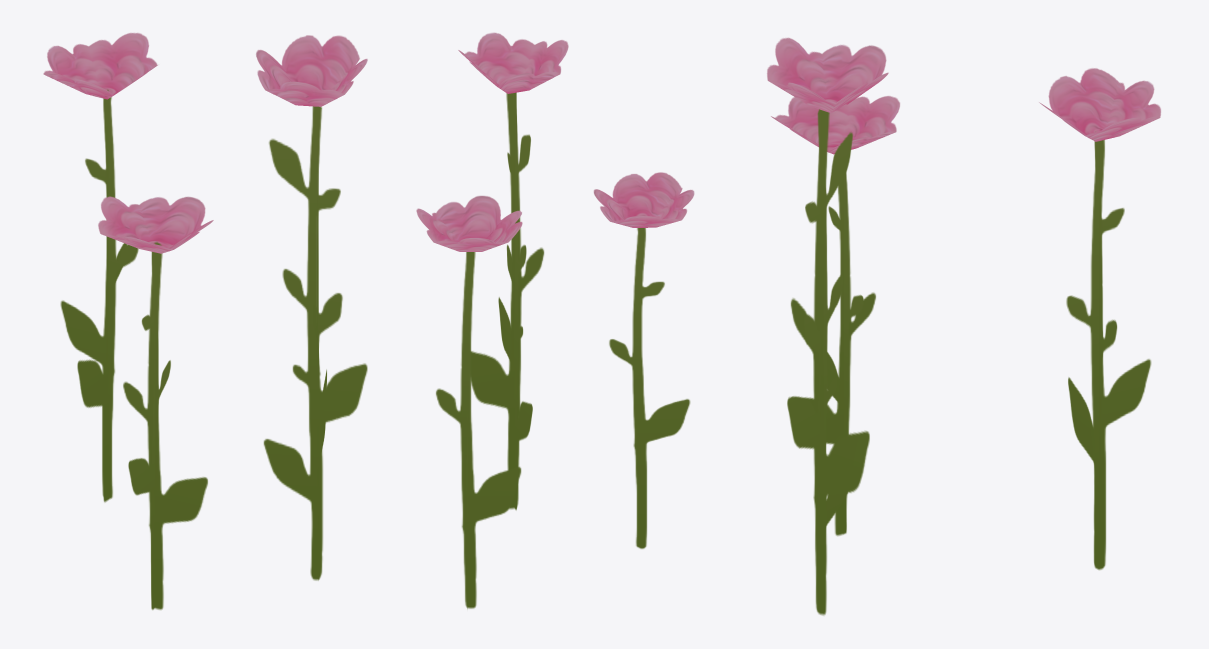
The model's file is flower01.glb.
3 views of the same model, side by side, from view 1: azimuth 30°, elevation 25°; view 2: azimuth 150°, elevation 25°; view 3: azimuth 270°, elevation 25° (orthographic). The views are drawn at different scales.
Visible parts, largest first — view 1: Flower01; view 2: Flower01; view 3: Flower01.
Part boxes in pixels (box(x1,y1,x2,y2)): Flower01: box(43, 32, 367, 609); Flower01: box(416, 32, 694, 608); Flower01: box(767, 37, 1160, 615).
Bounding box in the file's own units: 0.2064 × 0.3398 × 0.2542.
1 material, 1 textured.
